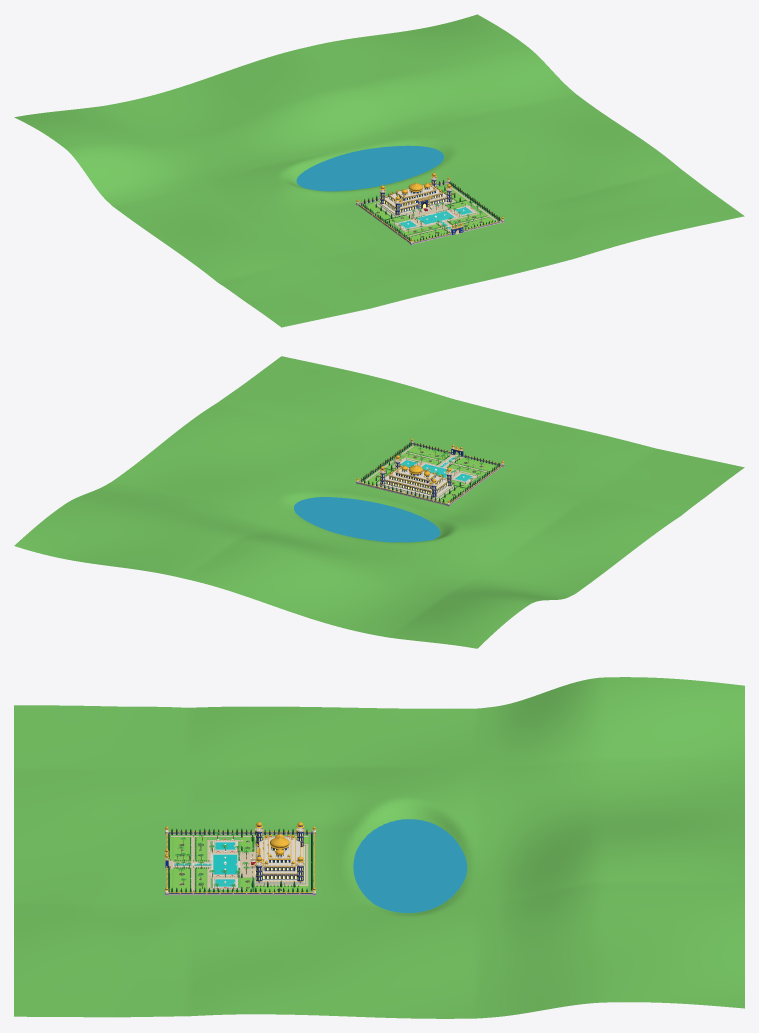
File: palace.glb
The picture shows the model from 3 angles, top to bottom: view 1: azimuth 30°, elevation 25°; view 2: azimuth 150°, elevation 25°; view 3: azimuth 270°, elevation 25°; orthographic projection. The views are drawn at different scales.
Visible parts, largest first — view 1: TER_Ground, TER_Lake, GDN_Lawns, GDN_Paths, GDN_Cypress, SUR_Boundary_Wall, PAL_Cornices; view 2: TER_Ground, TER_Lake, GDN_Lawns, SUR_Boundary_Wall, GDN_Cypress, GDN_Paths, PAL_Cornices; view 3: TER_Ground, TER_Lake, GDN_Lawns, GDN_Paths, SUR_Boundary_Wall, PAL_Cornices, GDN_Cypress, PAL_Tower_Corner, GDN_Palms.
Part boxes in pixels (x1,y1,x2,y2): TER_Ground: (14,14,744,327); TER_Lake: (296,145,443,191); GDN_Lawns: (365,185,494,241); GDN_Paths: (364,187,497,239); GDN_Cypress: (361,180,500,241); SUR_Boundary_Wall: (356,177,504,245); PAL_Cornices: (384,185,446,212); TER_Ground: (14,356,744,648); TER_Lake: (294,497,440,542); GDN_Lawns: (365,446,497,503); SUR_Boundary_Wall: (356,438,504,506); GDN_Cypress: (361,441,500,502); GDN_Paths: (362,446,497,501); PAL_Cornices: (385,467,447,494); TER_Ground: (14,677,744,1018); TER_Lake: (353,819,467,913); GDN_Lawns: (169,837,308,892); GDN_Paths: (167,836,308,892); SUR_Boundary_Wall: (164,826,316,895); PAL_Cornices: (259,837,300,879); GDN_Cypress: (168,828,313,892); PAL_Tower_Corner: (254,820,304,883); GDN_Palms: (175,831,250,890).
Bounding box in the file's own units: 1100 × 58.39 × 1100.
